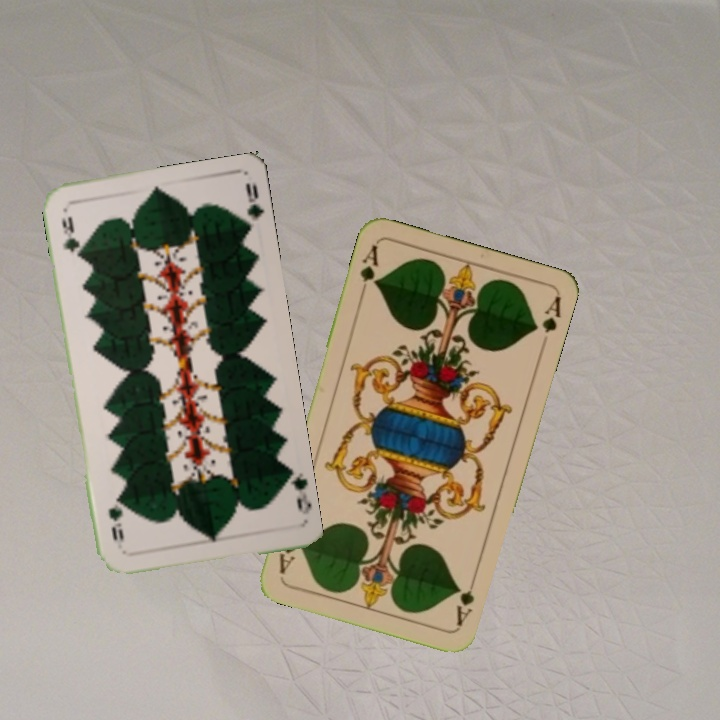G9: (280, 465, 312, 517), (57, 213, 84, 262)
GA: (452, 572, 479, 629), (355, 241, 381, 298)
